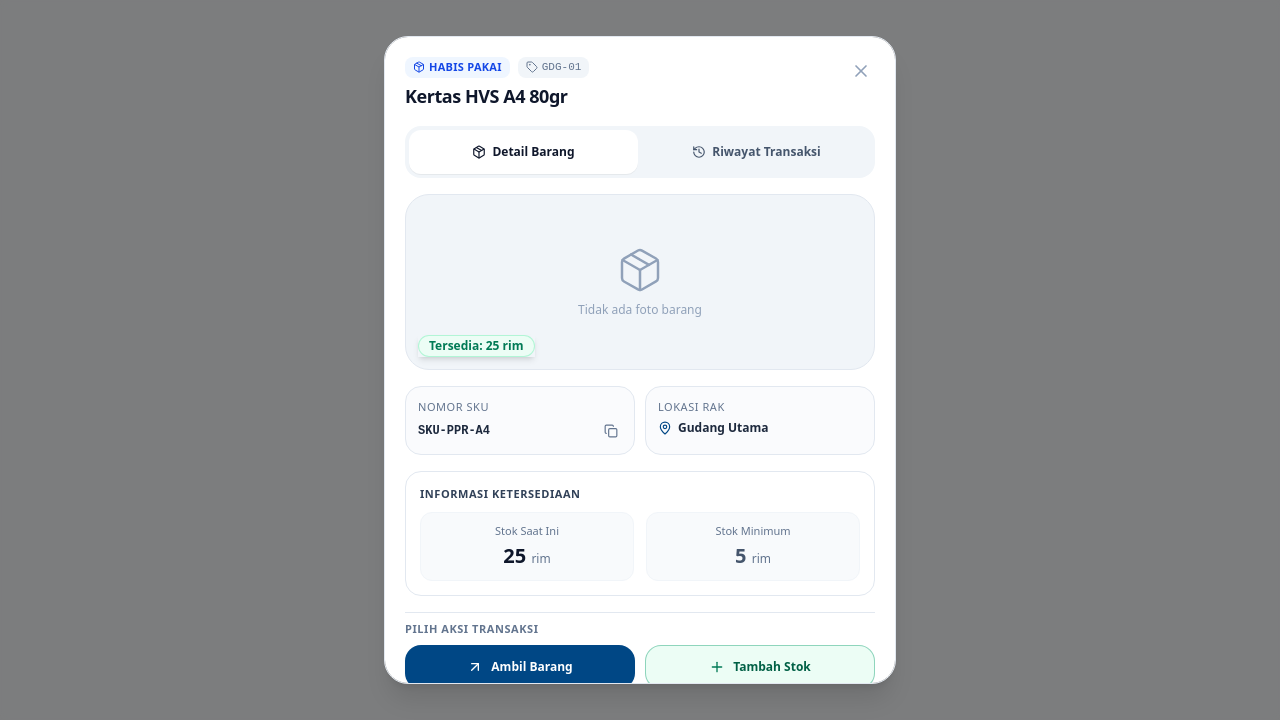
Test case: Task P3.6: Riwayat Ledger Per Item Suite › ItemDetailSheet Integration with Ledger History › switches seamlessly between 'Detail Barang' and 'Riwayat Transaksi' tabs
Expected: the text "Nomor SKU" is shown, [418,399,489,414]
Expected: the text "SKU-PPR-A4" is shown, [418,423,490,439]
Note: Klik tab 'Riwayat Transaksi'
Click the button with test id "tab-history-btn". click: (756, 152)
box: [642,130,871,174]
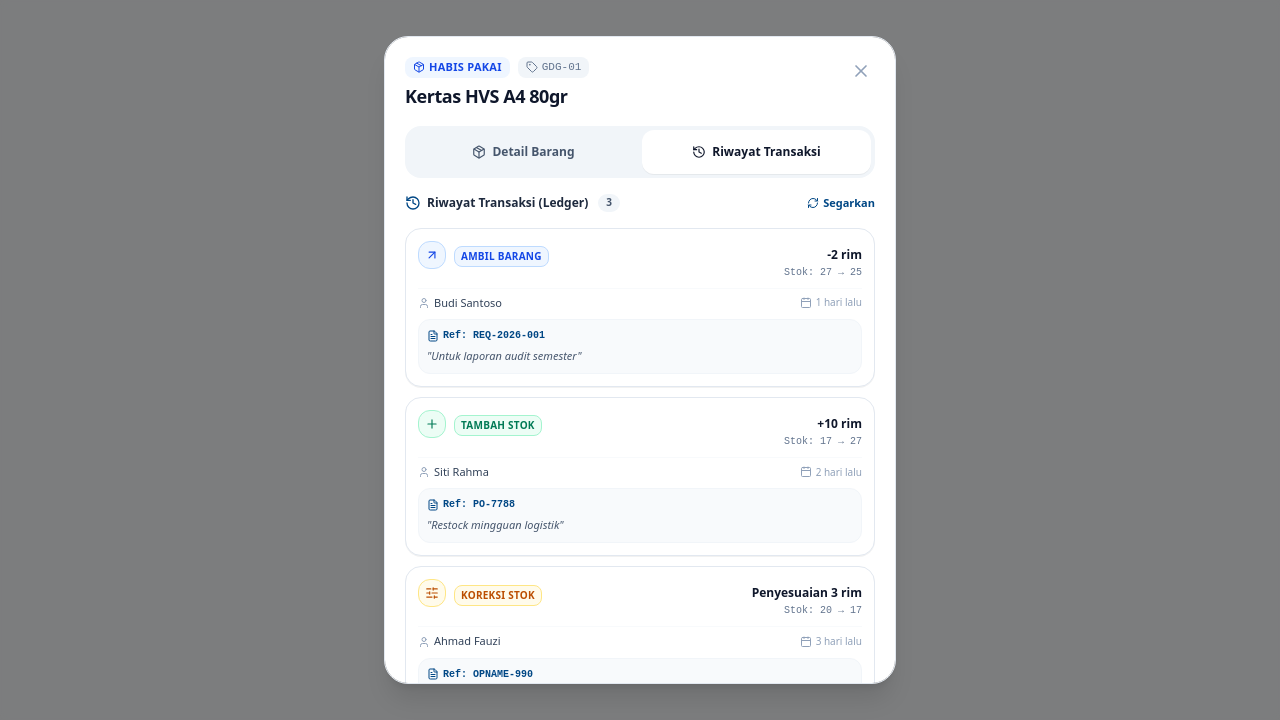
Now the element with test id "item-ledger-history" is shown, box [405,194,875,684]
Now the text "Budi Santoso" is shown, box [434,295,502,311]
Note: Klik kembali ke tab 'Detail Barang'
Click the button with test id "tab-detail-btn". click: (524, 152)
box: [409,130,638,174]
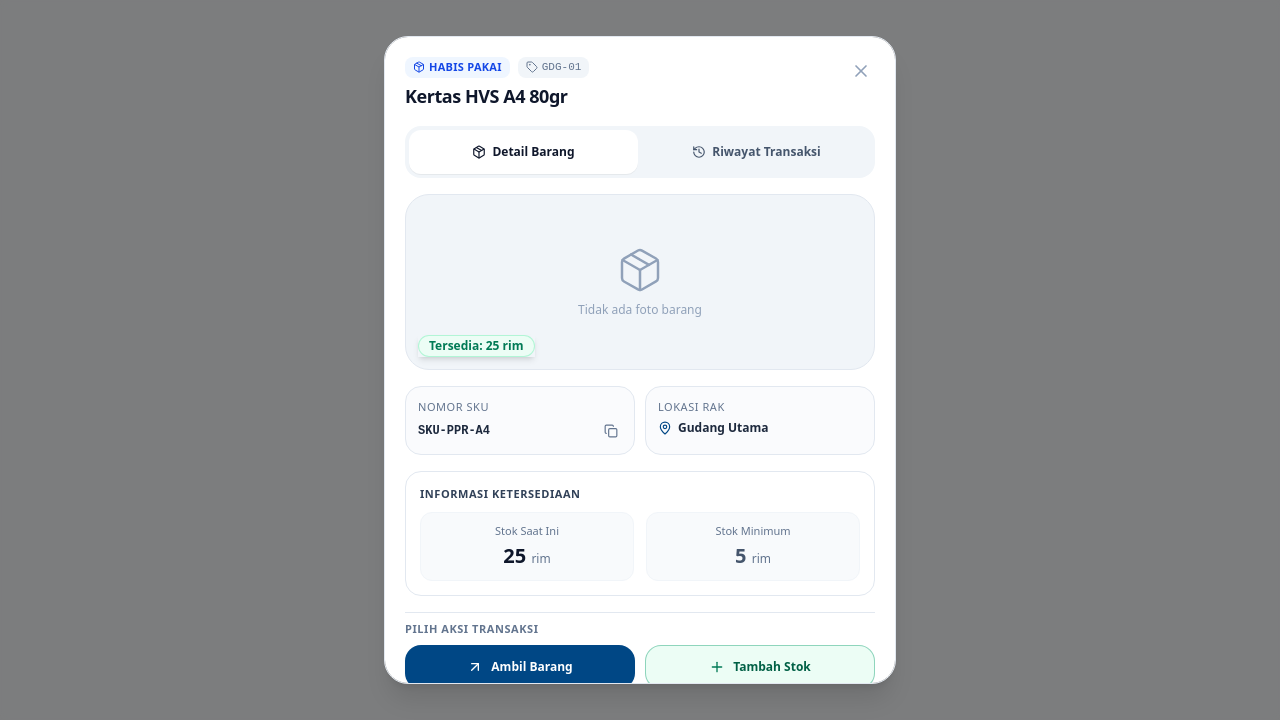
Now the text "Nomor SKU" is shown, box [418,399,489,414]
Now the text "SKU-PPR-A4" is shown, box [418,423,490,439]
